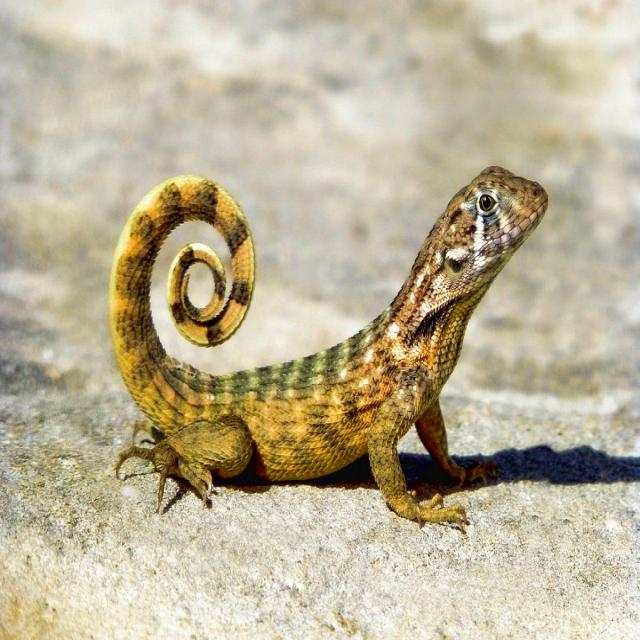lizard: (109, 167, 547, 523)
